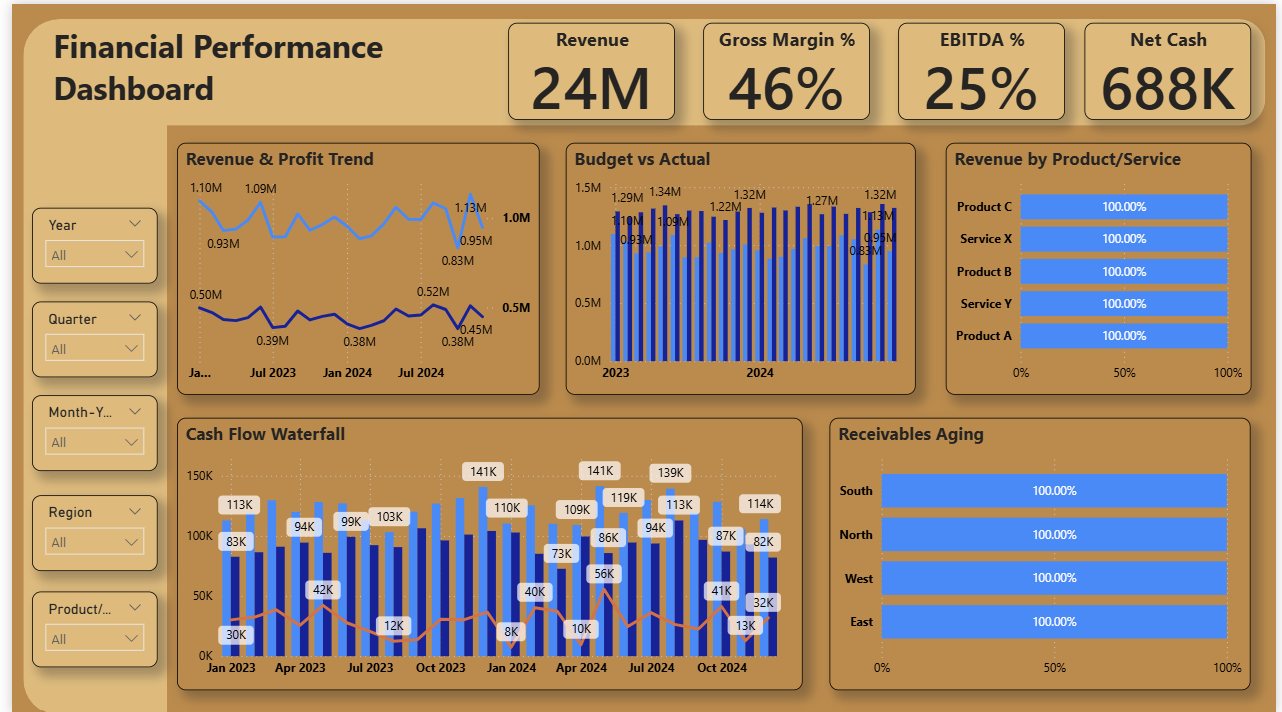

The dashboard page shown, as its layout file describes it:
{"tool":"powerbi","page":{"name":"Page 1","canvas":[1280,720],"ordinal":0},"visuals":[{"type":"shape","box":[10.8,14.9,145.9,705.4],"z":0},{"type":"shape","box":[154.1,14.9,1114.9,108.1],"z":1},{"type":"card","title":"Revenue","fields":{"Values":["Calendar.Revenue"]},"box":[502.7,18.9,168.9,98.6],"z":2},{"type":"card","title":"Gross Margin %","fields":{"Values":["Calendar.Gross Margin %"]},"box":[700,18.9,168.9,98.6],"z":3},{"type":"card","title":"EBITDA %","fields":{"Values":["Calendar.EBITDA %"]},"box":[897.3,18.9,168.9,98.6],"z":4},{"type":"card","title":"Net Cash","fields":{"Values":["Calendar.Net Cash"]},"box":[1086.5,18.9,168.9,98.6],"z":5},{"type":"slicer","fields":{"Values":["Calendar.Year"]},"box":[20.3,206.8,127,77],"z":6},{"type":"slicer","fields":{"Values":["Calendar.Quarter"]},"box":[20.3,301.4,127,77],"z":7},{"type":"slicer","fields":{"Values":["Calendar.Month-Year"]},"box":[20.3,395.9,127,77],"z":8},{"type":"slicer","fields":{"Values":["Finance.Region"]},"box":[20.3,497.3,127,77],"z":9},{"type":"slicer","fields":{"Values":["Finance.Product/Service"]},"box":[20.3,594.6,127,77],"z":10},{"type":"lineChart","title":"Revenue & Profit Trend","fields":{"Y2":["Calendar.Revenue","Calendar.Gross Profit"],"Category":["Finance.Month"]},"box":[167.6,140.5,367.6,255.4],"z":11},{"type":"clusteredColumnChart","title":"Budget vs Actual ","fields":{"Category":["Finance.Month"],"Y":["Calendar.Revenue","Calendar.Budget"]},"box":[560.8,140.5,354.1,255.4],"z":12},{"type":"hundredPercentStackedBarChart","fields":{"Category":["Finance.Product/Service"],"Y":["Calendar.Revenue"]},"box":[945.9,140.5,309.5,255.4],"z":13},{"type":"lineClusteredColumnComboChart","title":"Cash Flow Waterfall","fields":{"Category":["Finance.Month"],"Y":["Calendar.Cash Inflows","Calendar.Cash Outflows"],"Y2":["Calendar.Net Cash"]},"box":[167.6,418.9,633.8,275.7],"z":15},{"type":"hundredPercentStackedBarChart","title":"Receivables Aging","fields":{"Category":["Finance.Region"],"Y":["Calendar.Avg Receivable Days"]},"box":[828.4,418.9,412.2,275.7],"z":16},{"type":"textbox","box":[36.5,14.9,448.6,108.1],"z":17}]}

Visuals, with their boxes in screenshot pixels (x1, y1, x2, y2), scaled from the page's 1280x720 canvas onto the 1282x712 screenshot:
shape: 11:15:157:711
shape: 154:15:1271:122
"Revenue" card: 503:19:673:116
"Gross Margin %" card: 701:19:870:116
"EBITDA %" card: 899:19:1068:116
"Net Cash" card: 1088:19:1257:116
slicer - Calendar.Year: 20:205:148:281
slicer - Calendar.Quarter: 20:298:148:374
slicer - Calendar.Month-Year: 20:392:148:468
slicer - Finance.Region: 20:492:148:568
slicer - Finance.Product/Service: 20:588:148:664
"Revenue & Profit Trend" lineChart: 168:139:536:392
"Budget vs Actual " clusteredColumnChart: 562:139:916:392
hundredPercentStackedBarChart - Finance.Product/Service x Calendar.Revenue: 947:139:1257:392
"Cash Flow Waterfall" lineClusteredColumnComboChart: 168:414:803:687
"Receivables Aging" hundredPercentStackedBarChart: 830:414:1243:687
textbox: 37:15:486:122
